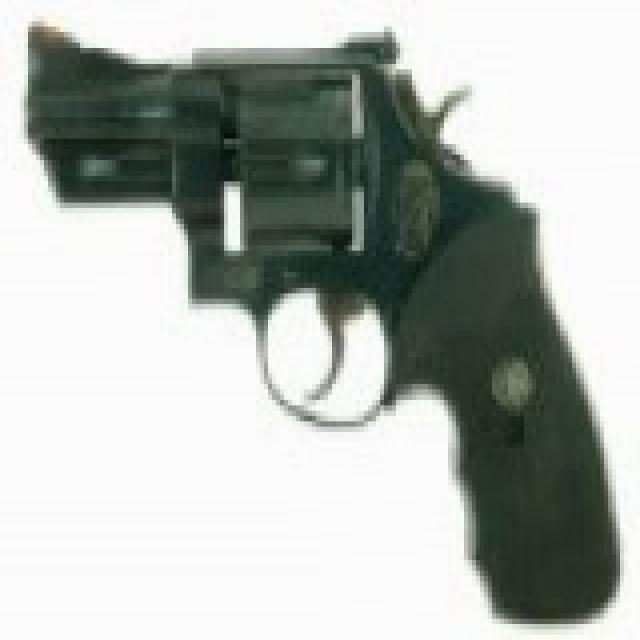pistol: (24, 0, 624, 613)
